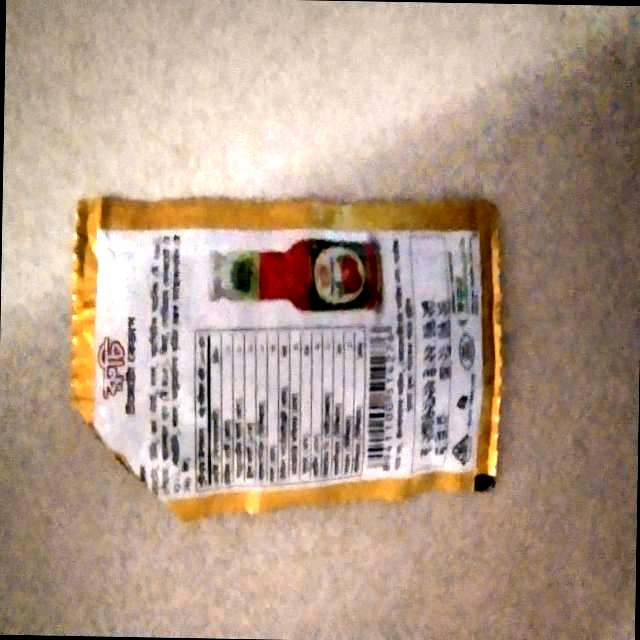packet: (62, 195, 506, 507)
